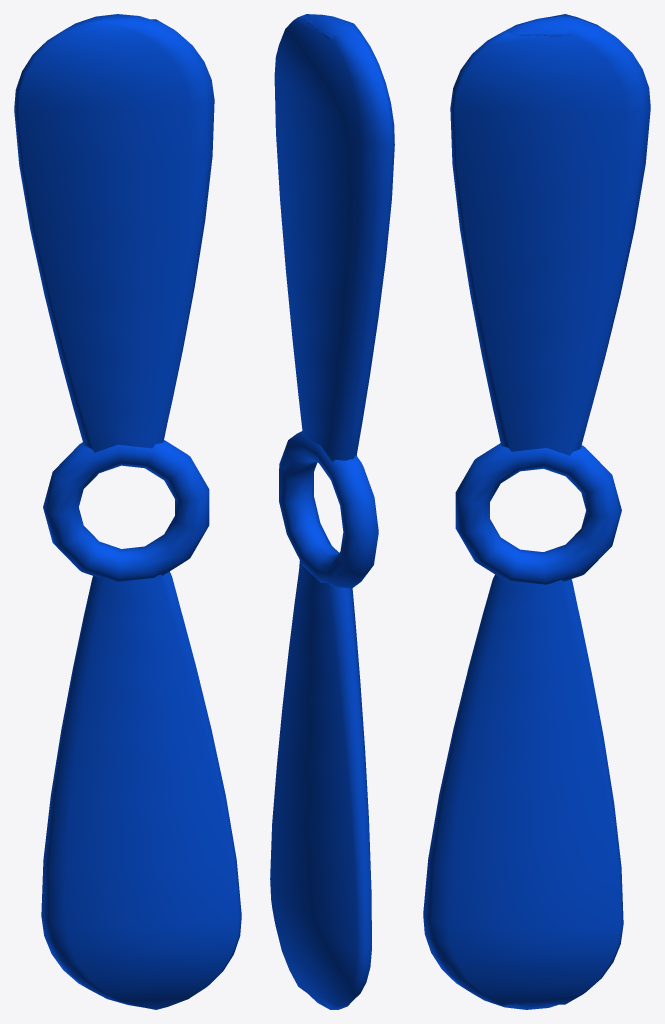
Rendered from Moteur_5_3.FBX.
The picture shows the model from 3 angles, left to right: view 1: azimuth 90°, elevation 25°; view 2: azimuth 210°, elevation 25°; view 3: azimuth 270°, elevation 25°; orthographic projection.
Parts seen in each view (by area): view 1: Rectangle005; view 2: Rectangle005; view 3: Rectangle005.
Boxes of the visible parts, x1=… form: Rectangle005: x1=14, y1=14, x2=241, y2=1009; Rectangle005: x1=270, y1=14, x2=394, y2=1009; Rectangle005: x1=423, y1=14, x2=650, y2=1009.
Size of the model in its own units: 1.79 by 54.58 by 11.4.
